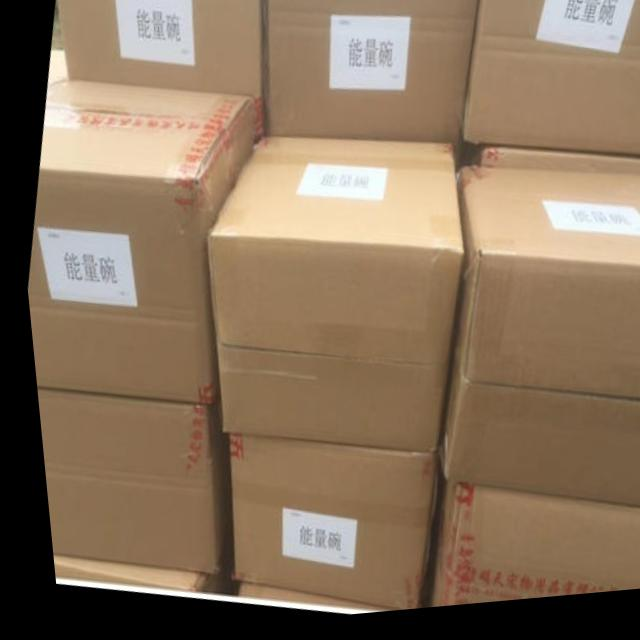box: (201, 140, 459, 461), (22, 80, 262, 407), (426, 172, 640, 515), (219, 439, 425, 616), (29, 388, 220, 577), (263, 0, 478, 152), (410, 474, 640, 615), (457, 0, 640, 167), (56, 0, 262, 105), (42, 545, 220, 601), (467, 154, 640, 193), (226, 586, 377, 618)
